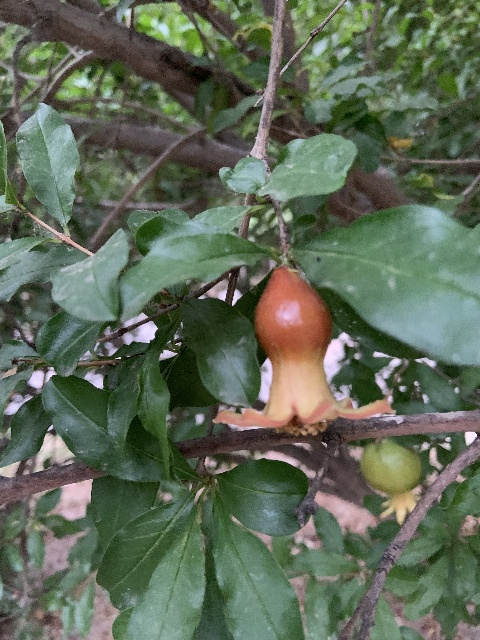flower: (213, 265, 394, 445)
mid-growth: (360, 439, 423, 524)
